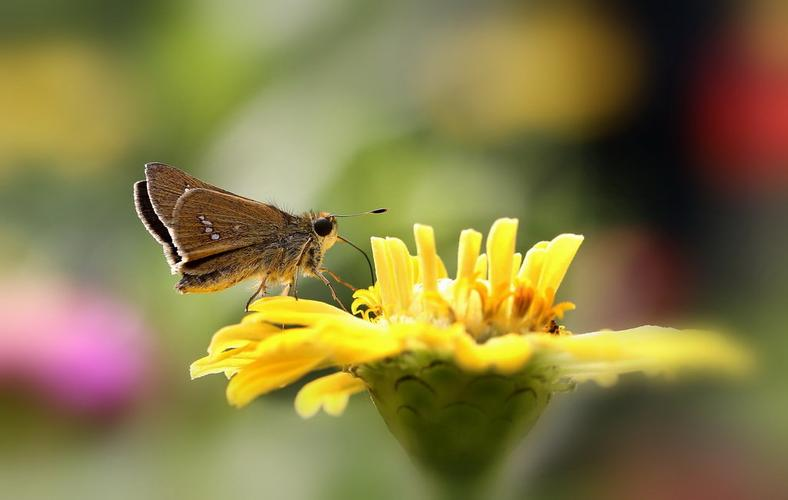Hesperiidae: (133, 160, 380, 312)
